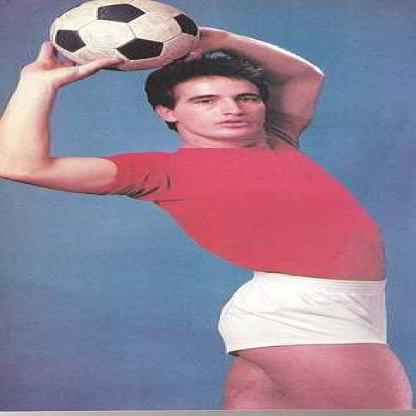ball: (50, 0, 202, 71)
